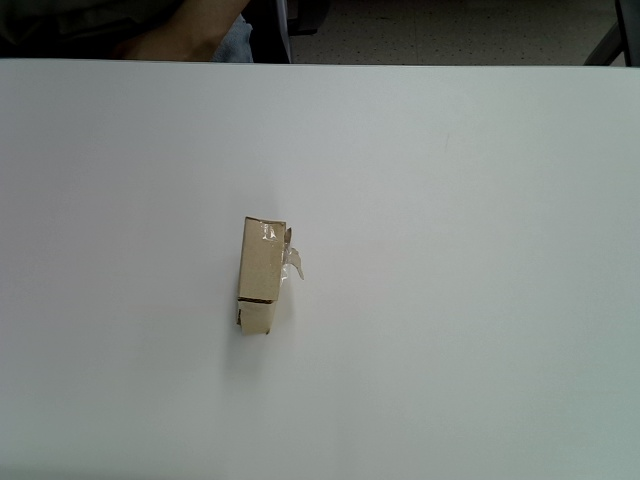defect: (235, 214, 306, 337)
